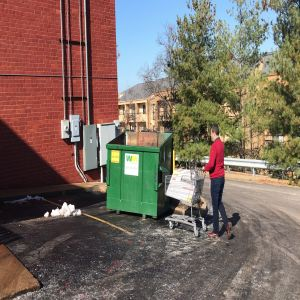Dumpster: (104, 128, 177, 222)
Person: (200, 125, 241, 243)
